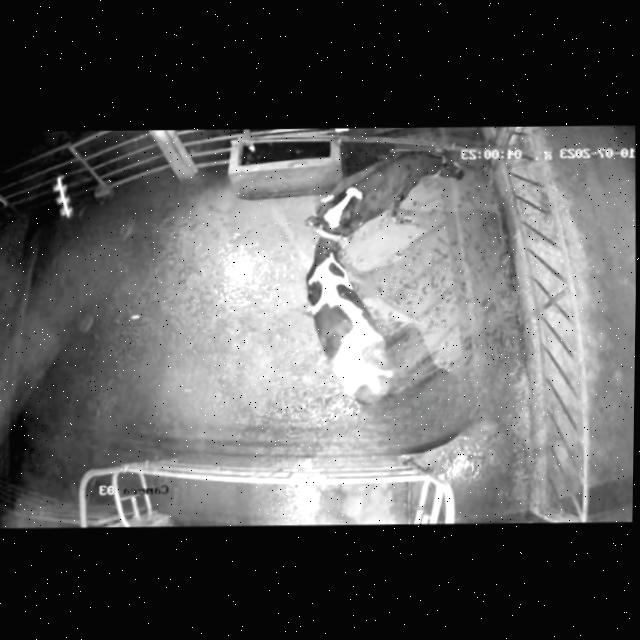propping: (303, 184, 389, 270)
stand: (298, 141, 475, 245)
